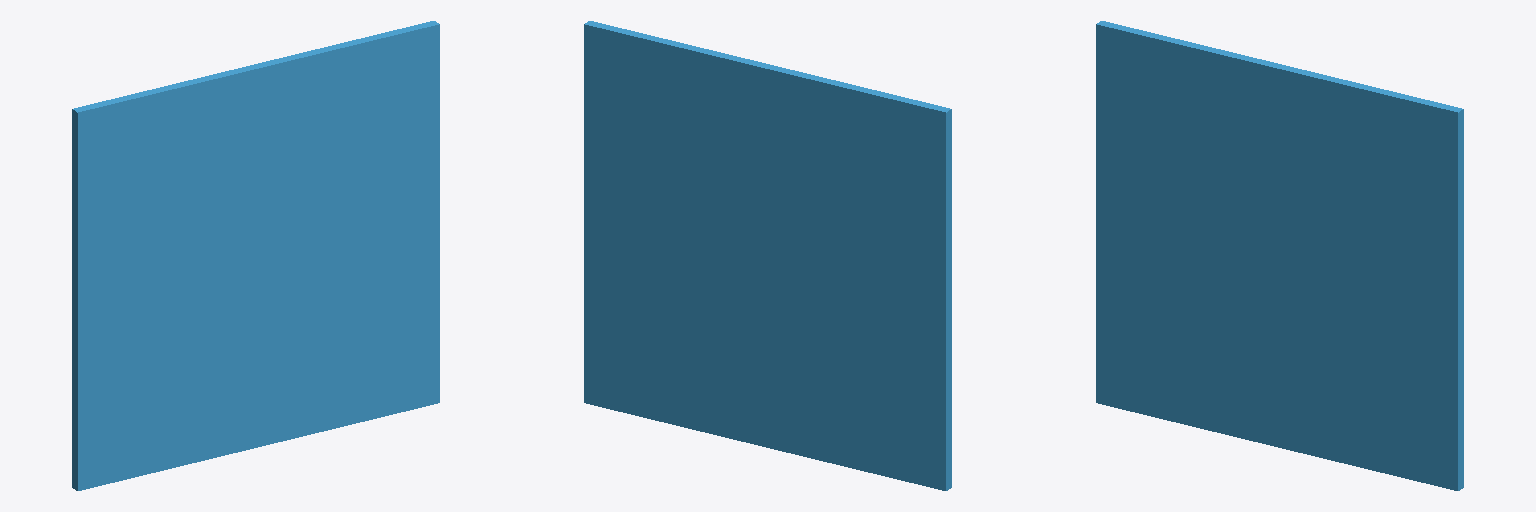
URDF robot description (ground_skeleton):
<?xml version="1.0"?>
<robot name="ground_skeleton">
    <link name="world" />
    <link name="ground_link">
        <inertial>
            <mass value="1.0" />
            <origin xyz="0 0 0" rpy="0 0 0" />
            <inertia ixx="1.0" ixy="0" ixz="0" iyy="1.0" iyz="0" izz="1.0" />
        </inertial>
        <visual>
            <origin xyz="0 -0.525 0" rpy="0 -0 0" />
            <geometry>
                <box size="2.0 0.05 2.0" />
            </geometry>
        </visual>
        <!--collision group="default">
            <origin xyz="0 -0.525 0" rpy="0 -0 0" />
            <geometry>
                <box size="2.0 0.05 2.0" />
            </geometry>
        </collision-->
    </link>
    <joint name="ground_joint" type="fixed">
        <origin xyz="0 0 0" rpy="0 0 0" />
        <parent link="world" />
        <child link="ground_link" />
    </joint>
</robot>

--- What the picture shows (computed from the rendered views, not written in the file) ---
3 views of the same robot in one strip: view 1: azimuth 30°, elevation 25°; view 2: azimuth 150°, elevation 25°; view 3: azimuth 330°, elevation 25° (orthographic).
Model ground_skeleton with 2 links and 1 joints (1 fixed), rooted at world, posed every joint at zero.
Links seen in each view (by area): view 1: ground_link; view 2: ground_link; view 3: ground_link.
Link boxes in pixels (x1,y1,x2,y2): ground_link: (72,21,439,490); ground_link: (584,21,951,490); ground_link: (1096,21,1463,490).
Bounding box of the posed robot: 2 × 0.05 × 2 m (x, y, z).
Geometry: primitives only (box / cylinder / sphere), no mesh files.